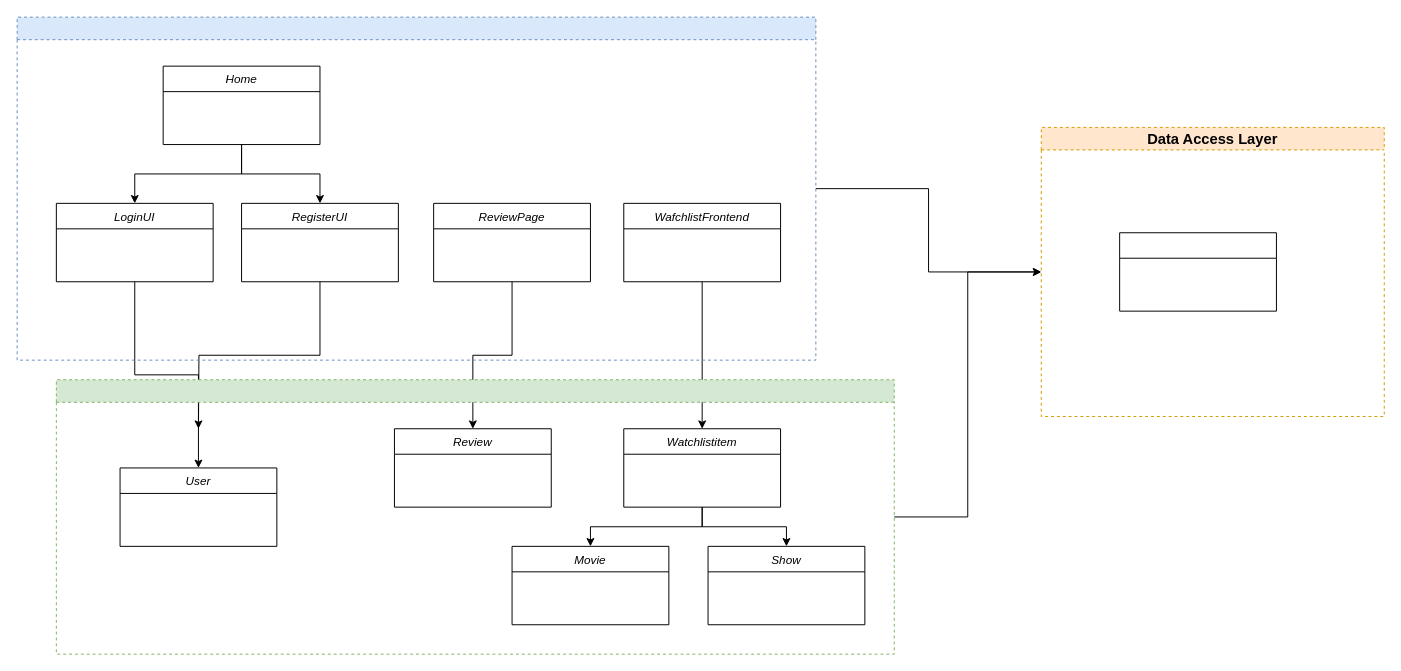
This 1401x671 diagram has some shape labels left out. The centre of each missing label's shape, as x and y in pixels:
Business Logic Layer: (x=474, y=516)
DatabaseSetup: (x=1197, y=271)
Presentation Layer: (x=416, y=188)
